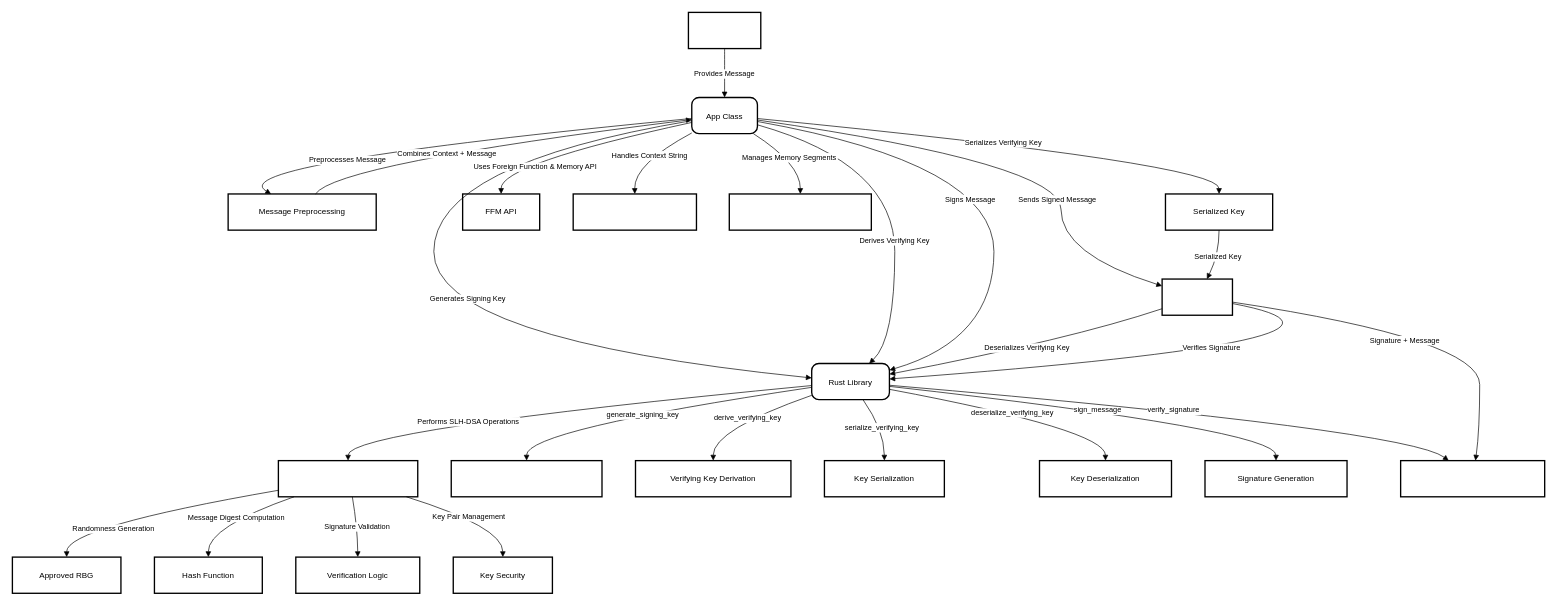
This 1556x605 diagram has some shape labels left out. The box of each missing label's shape, as (x1, y1, x2, y2) in pixels:
Context Handling: (572, 193, 697, 230)
FIPS 205 Compliance: (277, 460, 418, 497)
Memory Management: (728, 193, 872, 230)
Muliza: (1161, 278, 1233, 316)
Signature Verification: (1400, 460, 1545, 497)
Signing Key Generation: (450, 460, 602, 497)
Tyrone: (687, 11, 761, 49)
